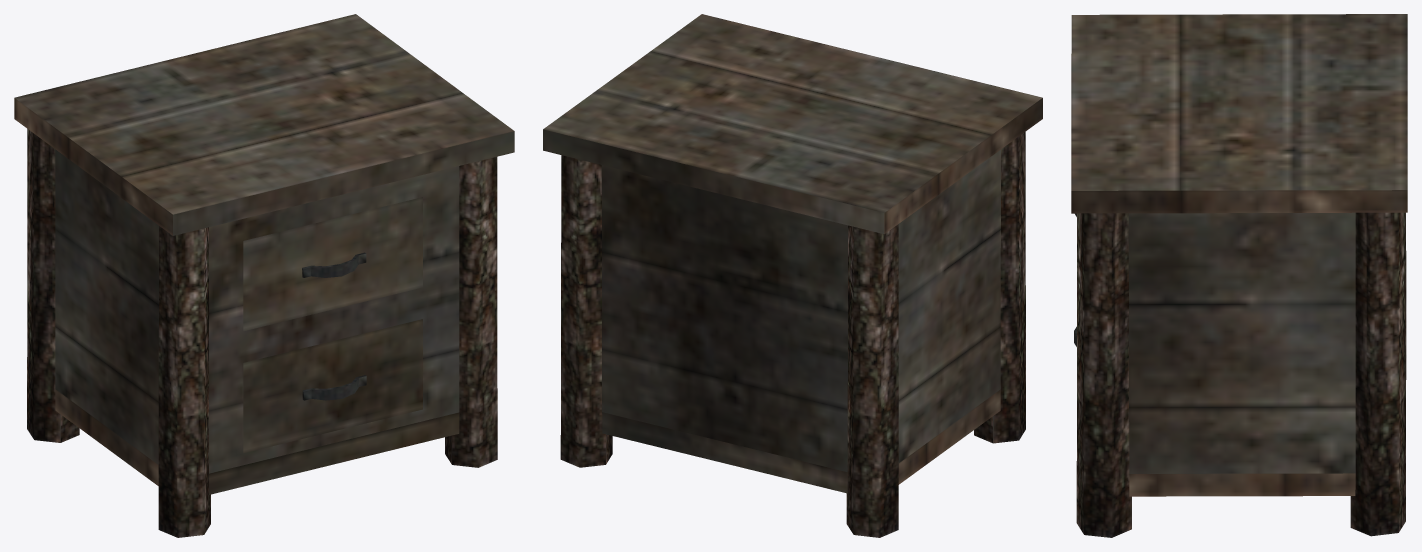
The model's file is d_sg_shouyou_guizi02_qt.FBX.
3 renders of one model, left to right at view 1: azimuth 30°, elevation 25°; view 2: azimuth 150°, elevation 25°; view 3: azimuth 270°, elevation 25°, orthographic. The views are drawn at different scales.
Parts seen in each view (by area): view 1: d_sg_shouyou_zhuzi01_qt; view 2: d_sg_shouyou_zhuzi01_qt; view 3: d_sg_shouyou_zhuzi01_qt.
Boxes of the visible parts, bbox=[...] form: d_sg_shouyou_zhuzi01_qt: bbox=[14, 14, 514, 537]; d_sg_shouyou_zhuzi01_qt: bbox=[543, 14, 1042, 537]; d_sg_shouyou_zhuzi01_qt: bbox=[1071, 14, 1407, 537].
Bounding box in the file's own units: 1.12 × 1.04 × 0.9008.
